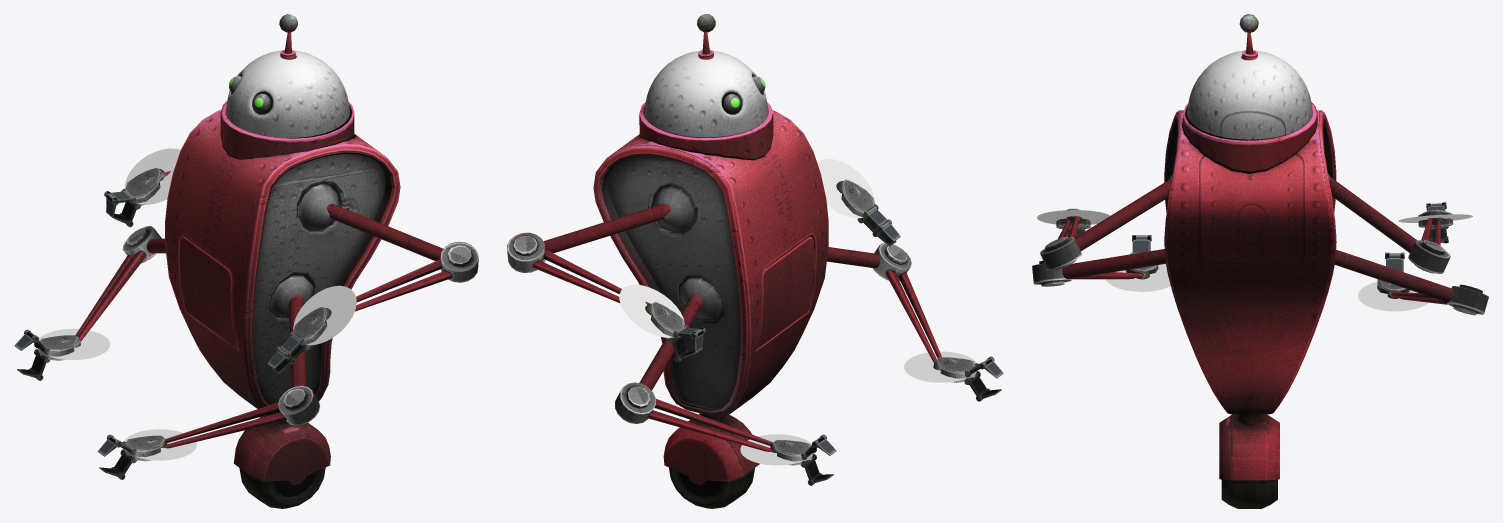
File: toon_bot.FBX
The picture shows the model from 3 angles, left to right: view 1: azimuth 30°, elevation 25°; view 2: azimuth 150°, elevation 25°; view 3: azimuth 270°, elevation 25°; orthographic projection.
Parts seen in each view (by area): view 1: bot_body, bot_head, bot_base, bot_door, bot_arm_link_005, bot_arm_link_2, bot_arm_link_011, bot_wheel, bot_arm_link_1, arm_cntrlr003, arm_cntrlr, arm_cntrlr001 (+6 smaller); view 2: bot_body, bot_head, bot_base, bot_door, bot_arm_link_011, bot_arm_link_008, bot_arm_link_005, bot_arm_link_007, bot_wheel, arm_cntrlr, arm_cntrlr003, bot_arm_link_010 (+7 smaller); view 3: bot_body, bot_head, bot_base, bot_arm_link_010, bot_arm_link_1, bot_arm_link_004, bot_arm_link_007, bot_wheel, bot_arm_link_008, bot_arm_link_011, bot_arm_link_2, bot_arm_link_005 (+3 smaller).
Part boxes in pixels (x1=…): bot_body: x1=165, y1=101, x2=400, y2=415; bot_head: x1=225, y1=14, x2=349, y2=137; bot_base: x1=233, y1=415, x2=330, y2=485; bot_door: x1=179, y1=236, x2=238, y2=349; bot_arm_link_005: x1=161, y1=385, x2=320, y2=448; bot_arm_link_2: x1=324, y1=241, x2=478, y2=319; bot_arm_link_011: x1=74, y1=226, x2=161, y2=347; bot_wheel: x1=239, y1=467, x2=325, y2=508; bot_arm_link_1: x1=327, y1=203, x2=443, y2=261; arm_cntrlr003: x1=293, y1=285, x2=356, y2=345; arm_cntrlr: x1=125, y1=148, x2=180, y2=204; arm_cntrlr001: x1=37, y1=329, x2=110, y2=360; bot_body: x1=593, y1=102, x2=828, y2=417; bot_head: x1=644, y1=14, x2=768, y2=137; bot_base: x1=663, y1=413, x2=759, y2=485; bot_door: x1=755, y1=236, x2=814, y2=349; bot_arm_link_011: x1=615, y1=382, x2=776, y2=452; bot_arm_link_008: x1=507, y1=232, x2=652, y2=315; bot_arm_link_005: x1=872, y1=243, x2=941, y2=370; bot_arm_link_007: x1=543, y1=204, x2=670, y2=253; bot_wheel: x1=669, y1=467, x2=754, y2=508; arm_cntrlr: x1=619, y1=284, x2=684, y2=337; arm_cntrlr003: x1=817, y1=159, x2=874, y2=218; bot_arm_link_010: x1=639, y1=294, x2=702, y2=390; bot_body: x1=1164, y1=102, x2=1336, y2=414; bot_head: x1=1187, y1=14, x2=1312, y2=139; bot_base: x1=1219, y1=414, x2=1279, y2=480; bot_arm_link_010: x1=1334, y1=249, x2=1453, y2=302; bot_arm_link_1: x1=1075, y1=179, x2=1171, y2=251; bot_arm_link_004: x1=1062, y1=249, x2=1165, y2=279; bot_arm_link_007: x1=1329, y1=177, x2=1416, y2=252; bot_wheel: x1=1221, y1=479, x2=1277, y2=508; bot_arm_link_008: x1=1408, y1=212, x2=1450, y2=273; bot_arm_link_011: x1=1387, y1=284, x2=1488, y2=315; bot_arm_link_2: x1=1040, y1=216, x2=1081, y2=270; bot_arm_link_005: x1=1032, y1=260, x2=1149, y2=286.
Size of the model in its own units: 154 by 205 by 172.
1 material, 1 textured.
